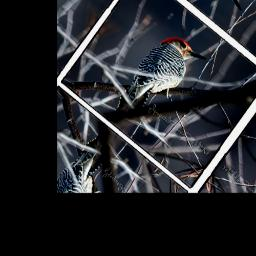Woodpecker: (116, 20, 212, 128)
